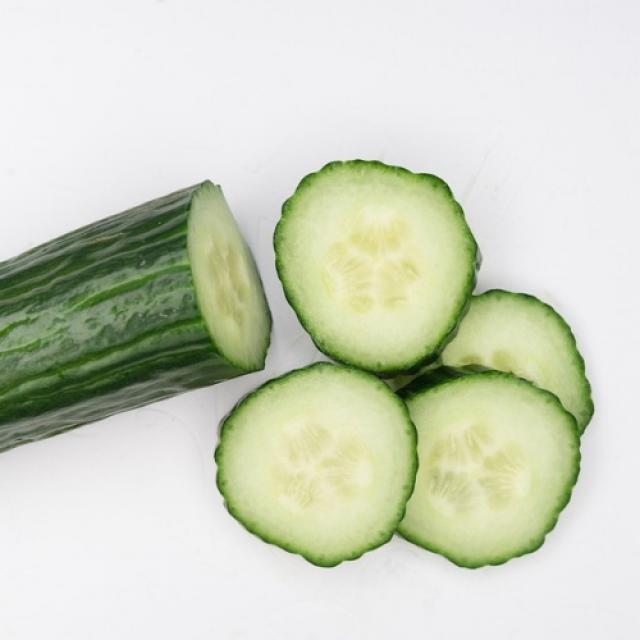cucumber: (206, 153, 619, 535), (262, 150, 515, 394), (343, 339, 590, 571)
